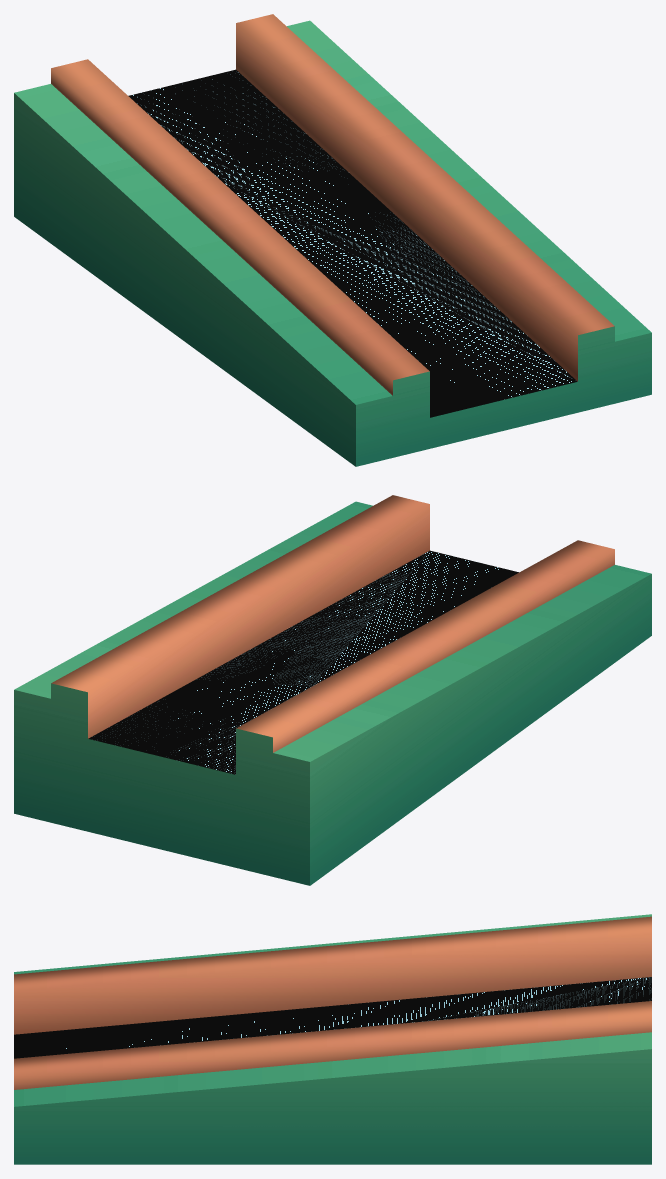
The model's file is kenney-tower-defense-tile-river-slope-large.glb.
The picture shows the model from 3 angles, top to bottom: view 1: azimuth 30°, elevation 25°; view 2: azimuth 150°, elevation 25°; view 3: azimuth 270°, elevation 25°; orthographic projection. The views are drawn at different scales.
Parts seen in each view (by area): view 1: tile-river-slope-large; view 2: tile-river-slope-large; view 3: tile-river-slope-large.
Boxes of the visible parts, box(x1,y1,x2,y2) form: tile-river-slope-large: box(14, 14, 651, 466); tile-river-slope-large: box(14, 495, 651, 885); tile-river-slope-large: box(14, 914, 651, 1164).
Size of the model in its own units: 1 by 0.45 by 2.
1 material, 1 textured.
